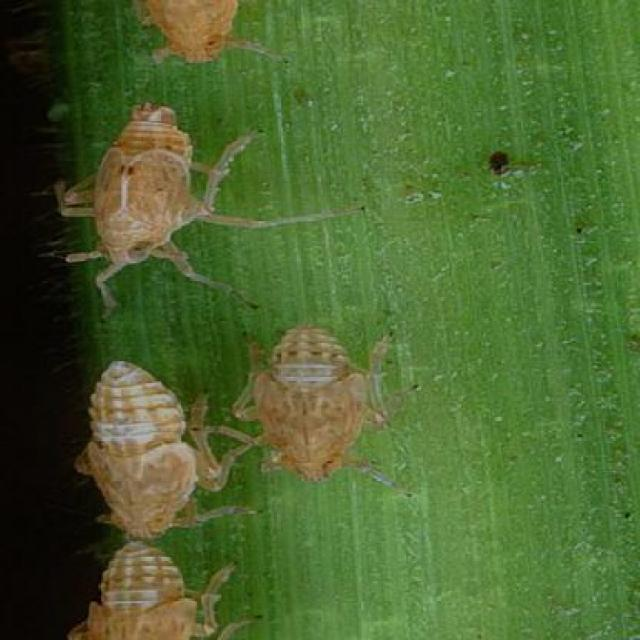brown-planthopper: (62, 99, 249, 306), (55, 356, 222, 538), (236, 323, 390, 485), (79, 546, 226, 640), (131, 0, 277, 65)
